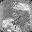people: (2, 18, 14, 28)
